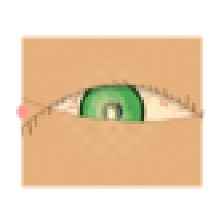corneal_ulcer: (81, 92, 134, 134)
